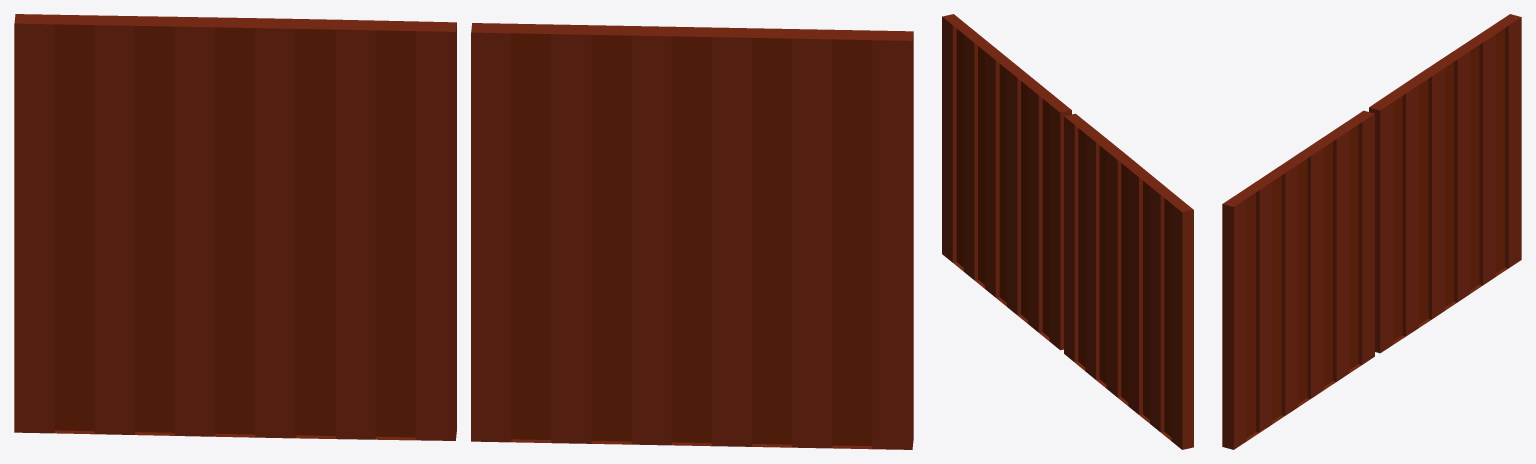
The model's file is Gate.fbx.
3 renders of one model, left to right at view 1: azimuth 30°, elevation 25°; view 2: azimuth 150°, elevation 25°; view 3: azimuth 270°, elevation 25°, orthographic. The views are drawn at different scales.
Visible parts, largest first — view 1: Gate close, Gate close.001; view 2: Gate close, Gate close.001; view 3: Gate close.001, Gate close.
Boxes of the visible parts, x1,y1,x2,y2 form: Gate close: (14,14,456,440); Gate close.001: (471,23,913,449); Gate close: (1064,113,1193,449); Gate close.001: (942,14,1071,350); Gate close.001: (1222,110,1374,449); Gate close: (1369,14,1521,353).
Size of the model in its own units: 511 by 300 by 335.
